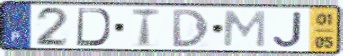2: (35, 6, 72, 48)
D: (170, 8, 211, 49), (74, 7, 113, 47)
J: (272, 11, 304, 49)
M: (221, 10, 268, 49)
T: (130, 7, 162, 48)
